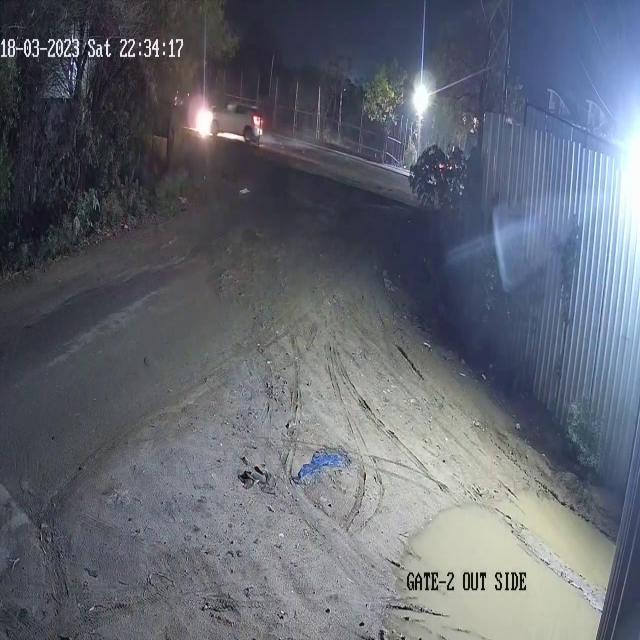accident: (189, 84, 267, 152)
